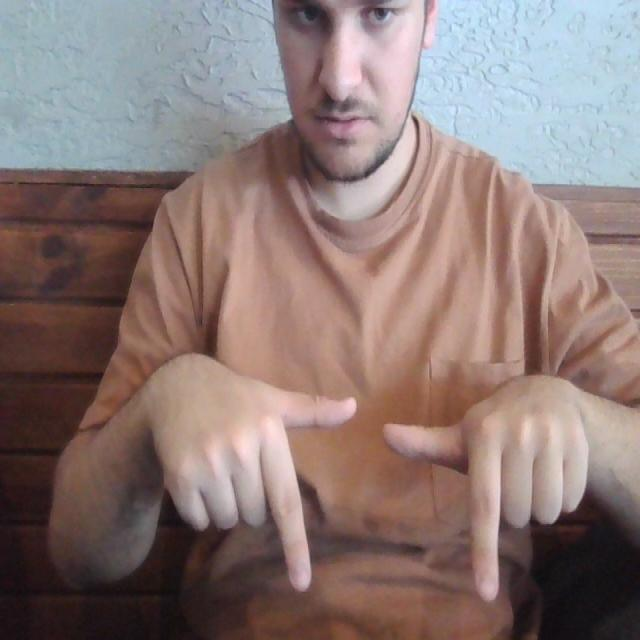Nerede: (257, 385, 515, 610)
